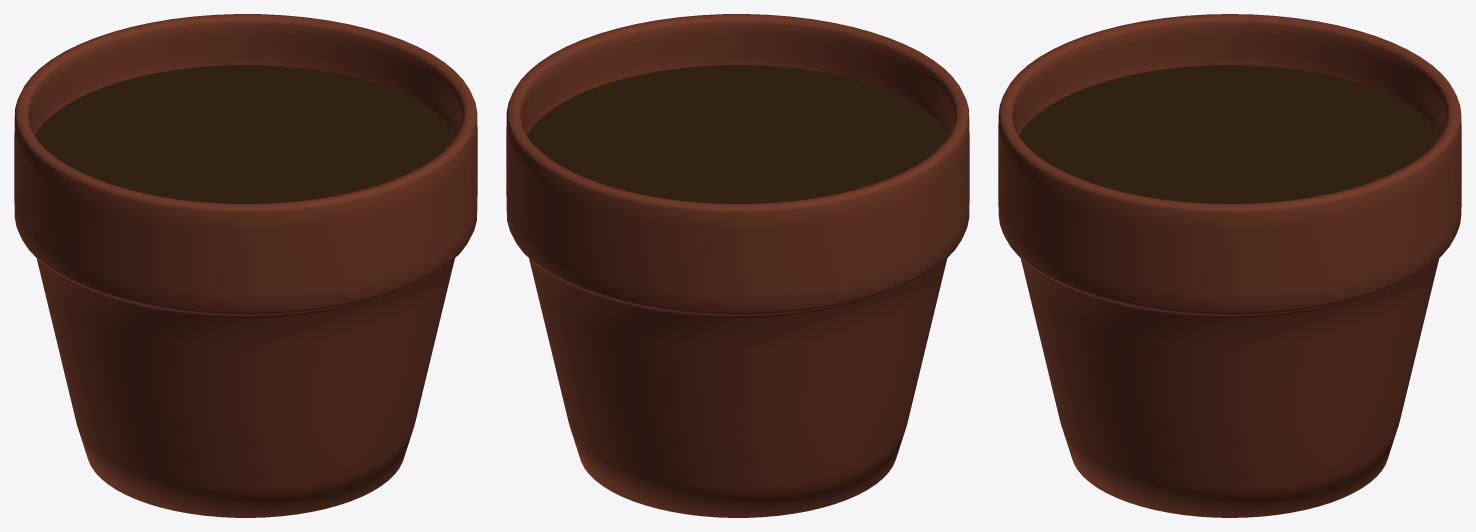
File: PlantPot.fbx
The picture shows the model from 3 angles, left to right: view 1: azimuth 30°, elevation 25°; view 2: azimuth 150°, elevation 25°; view 3: azimuth 270°, elevation 25°; orthographic projection.
Visible parts, largest first — view 1: PlantPot, Potted_Dirt; view 2: PlantPot, Potted_Dirt; view 3: PlantPot, Potted_Dirt.
Part boxes in pixels (x1,y1,x2,y2): PlantPot: [14, 14, 477, 517]; Potted_Dirt: [34, 65, 457, 203]; PlantPot: [506, 14, 969, 517]; Potted_Dirt: [526, 65, 949, 203]; PlantPot: [998, 14, 1461, 517]; Potted_Dirt: [1018, 65, 1441, 203].
Bounding box in the file's own units: 519 × 435 × 519.
